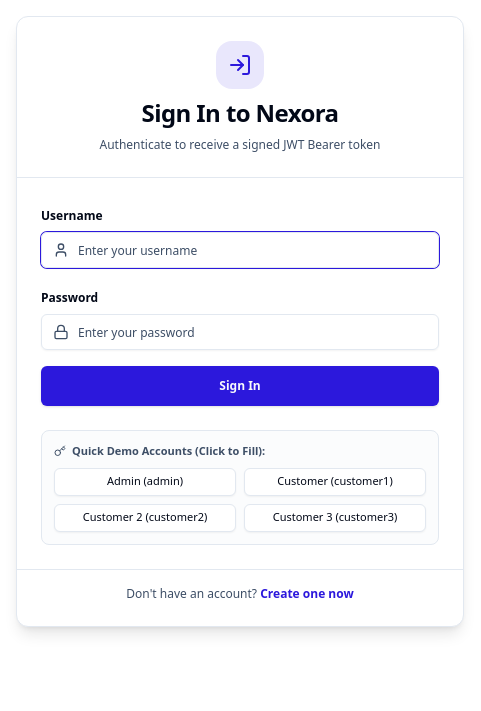
it: Day 15 — Typed React Component & MSW Integration Tests › 2. LoginPage Component (Form Validation, Demo Fill & MSW Auth) › displays a validation error alert when submitting empty credentials
Click the button "Sign In". click: point(240, 386)
box: [41,366,439,406]
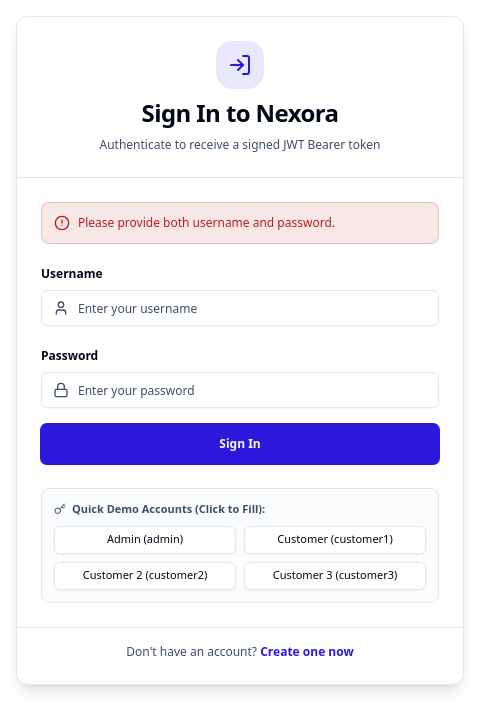
Result: the text "Please provide both username and password." is shown at [78,215,335,231]
